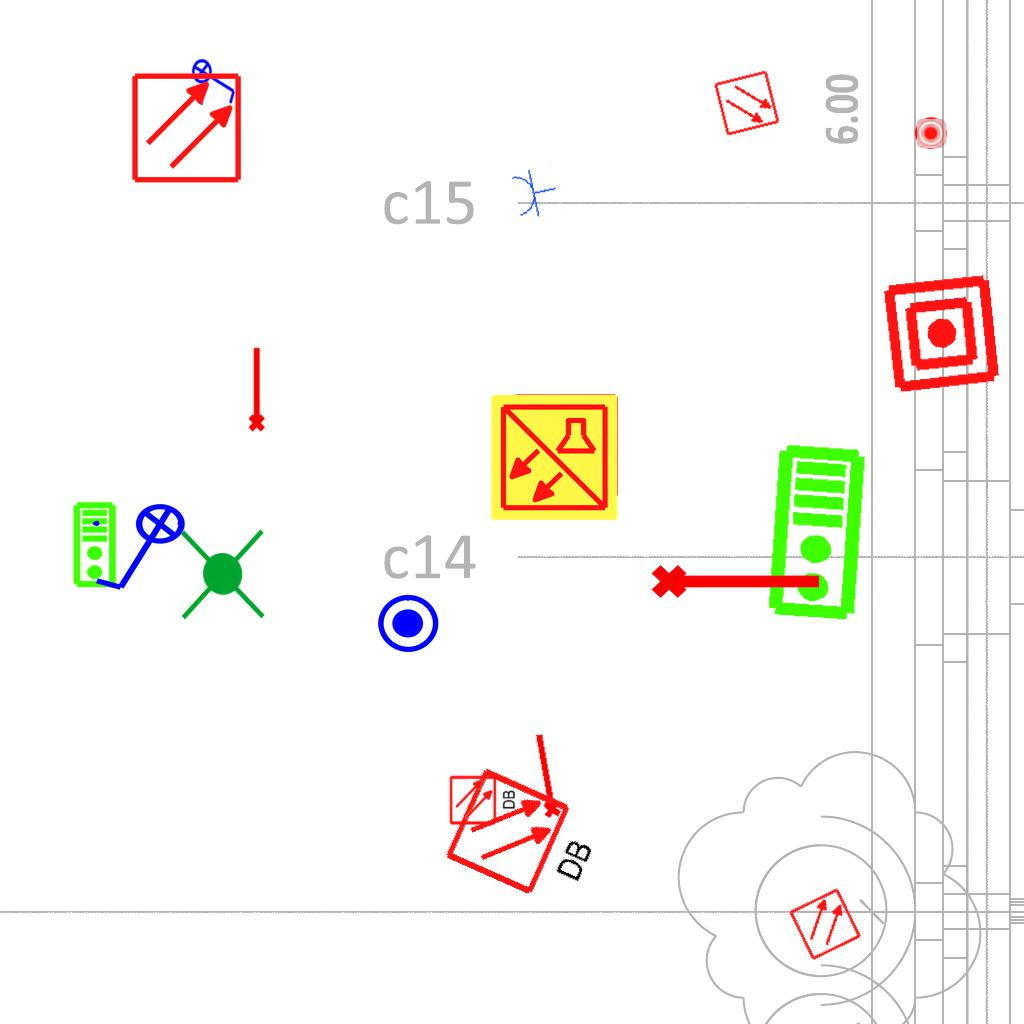ASR_Ansaugoeffnung: (649, 556, 825, 602), (526, 730, 564, 821), (244, 345, 267, 433)
Ausschalter_beleuchtet: (87, 502, 199, 598), (191, 52, 239, 108)
DB_Melder_in_Doppelboden_mit_Revisionsoeffnung_mind_40_x_40_cm: (435, 756, 619, 921), (446, 771, 520, 828)
Gegensprechanlage_mit_Video: (764, 441, 873, 625), (72, 501, 119, 589)
NAM-Nichtautomatischer_Melder: (879, 271, 1004, 396)
Notlichtbaustein_in_Allgemeinbeleuchtug_engebaut_Einbau_(1UG_und_2UG_Aufbauvaria: (170, 524, 273, 624)
OKW_Multisensormelder_(Kombination_optischer_Rauch-Kahlenmonoxid_Waerme-Melder): (488, 391, 620, 523)
RMO_Rauchmelder_optischer: (130, 71, 243, 184), (787, 886, 863, 962), (713, 69, 781, 137)
Schukosteckdose_einfach: (508, 163, 562, 222)
Taster: (375, 588, 441, 654), (915, 117, 948, 150)
